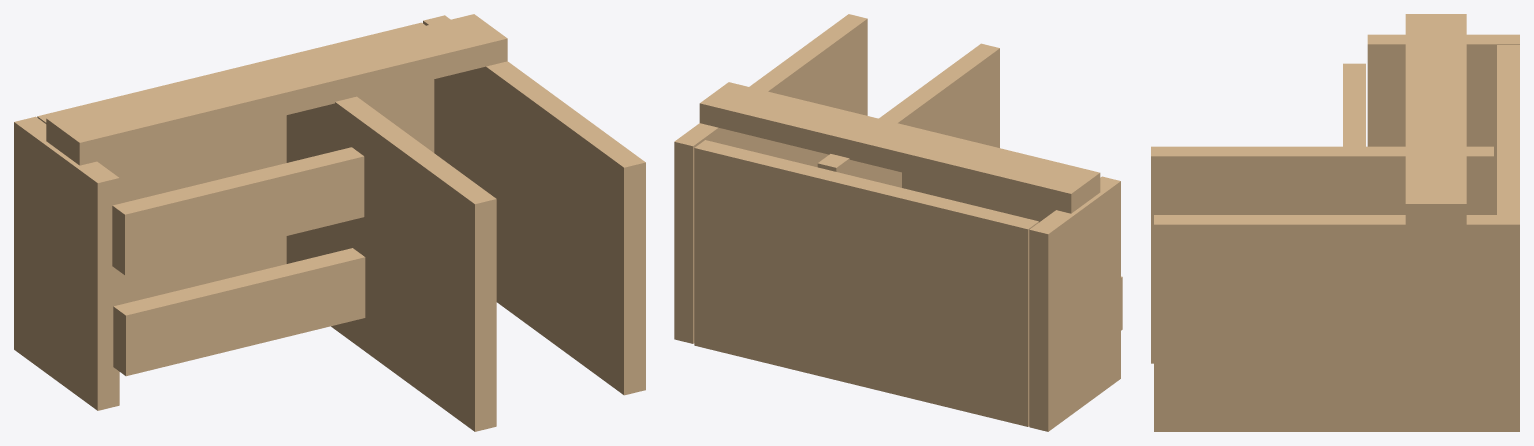
The model's file is tinker.obj.
3 renders of one model, left to right at view 1: azimuth 30°, elevation 25°; view 2: azimuth 150°, elevation 25°; view 3: azimuth 270°, elevation 25°, orthographic. The views are drawn at different scales.
Visible parts, largest first — view 1: obj_0; view 2: obj_0; view 3: obj_0.
Boxes of the visible parts, bbox=[...] form: obj_0: bbox=[14, 14, 645, 431]; obj_0: bbox=[674, 14, 1122, 431]; obj_0: bbox=[1151, 14, 1519, 431].
Size of the model in its own units: 297 by 166 by 242.
